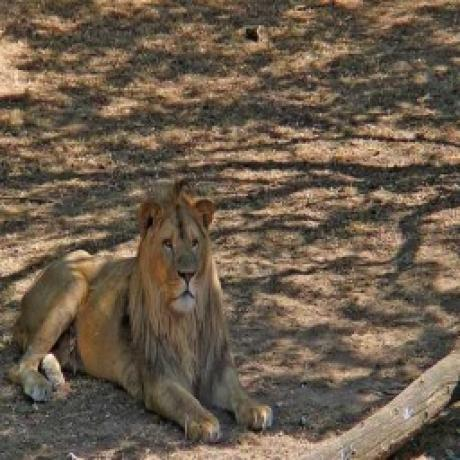Lion: (13, 195, 277, 447)
